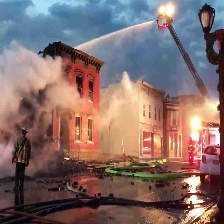smoke: (3, 50, 72, 173), (97, 71, 136, 129)
